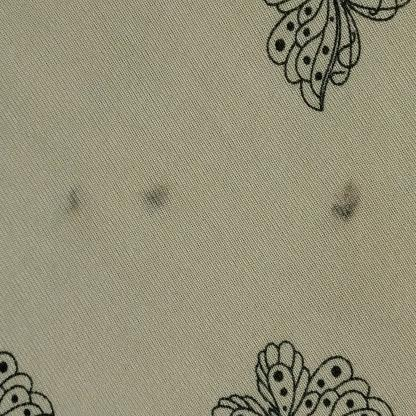spot: (324, 166, 370, 236), (51, 173, 90, 227), (138, 178, 176, 214)
